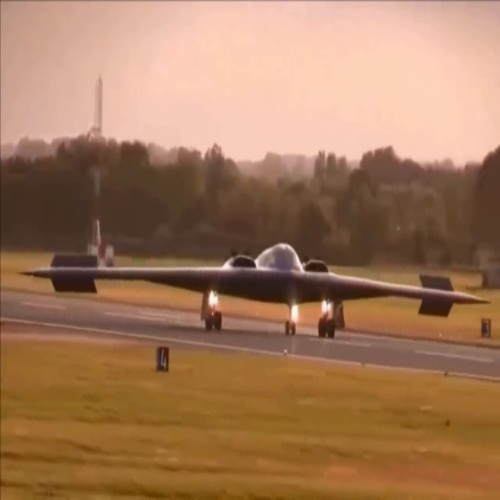uav: (17, 236, 493, 343)
